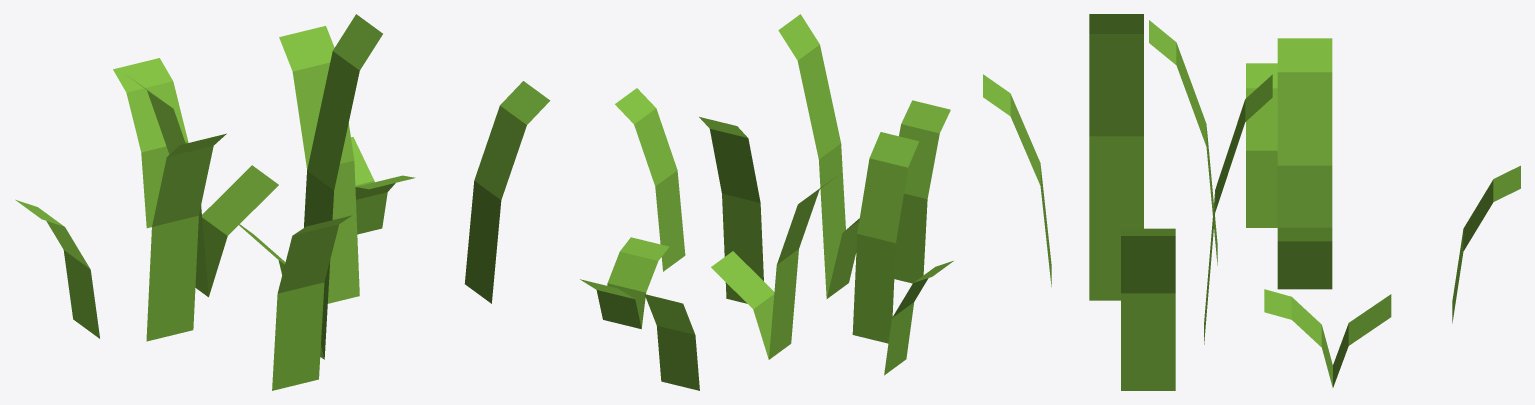
File: grass_tuft.glb
3 renders of one model, left to right at view 1: azimuth 30°, elevation 25°; view 2: azimuth 150°, elevation 25°; view 3: azimuth 270°, elevation 25°, orthographic. The views are drawn at different scales.
Parts seen in each view (by area): view 1: grass; view 2: grass; view 3: grass.
Part boxes in pixels (x1,y1,x2,y2): grass: (15, 14, 550, 390); grass: (580, 14, 953, 390); grass: (983, 14, 1520, 390).
Bounding box in the file's own units: 0.5335 × 0.3556 × 0.5491.
